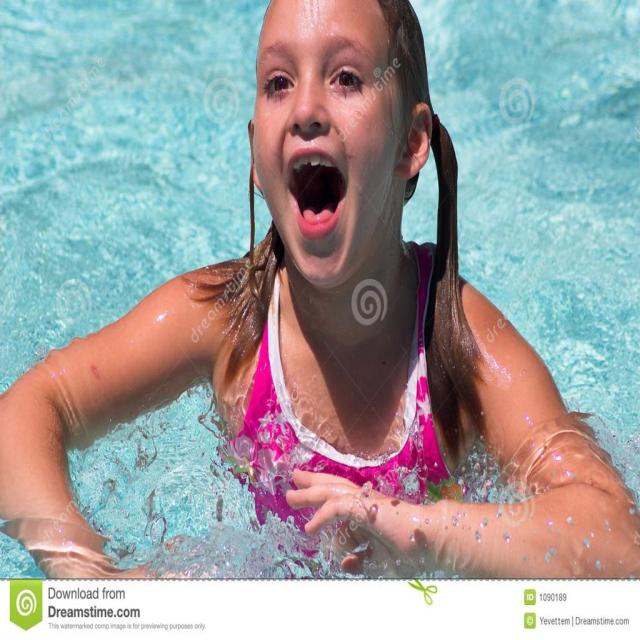Face: (254, 1, 421, 318)
